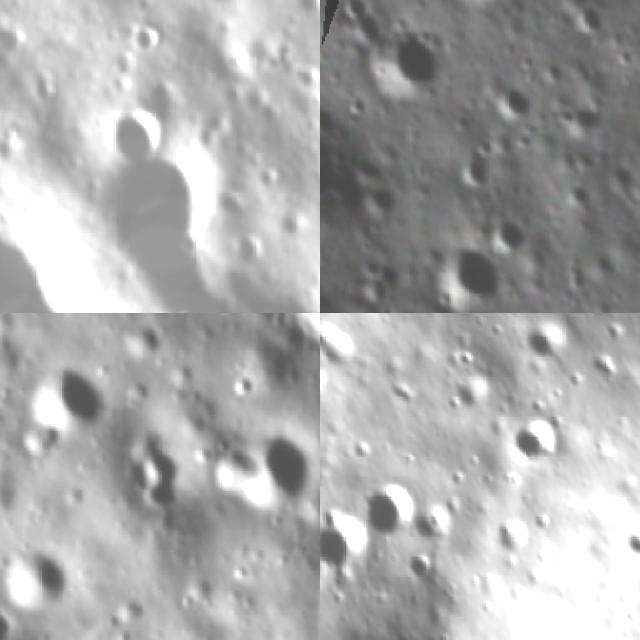crater: (73, 133, 229, 270), (213, 429, 320, 518), (24, 357, 113, 449), (170, 262, 320, 313), (362, 22, 453, 99), (116, 427, 184, 512), (0, 542, 80, 613), (96, 100, 176, 168), (431, 243, 499, 313), (320, 506, 378, 575), (364, 478, 424, 541), (501, 416, 569, 471), (515, 315, 577, 366), (449, 153, 498, 200), (491, 512, 537, 562), (117, 313, 163, 359), (320, 326, 364, 372), (455, 376, 498, 420), (492, 77, 532, 124), (225, 227, 268, 270), (492, 210, 530, 254), (131, 17, 168, 62), (405, 550, 440, 590), (256, 101, 292, 138), (274, 206, 308, 244), (219, 185, 248, 223), (332, 0, 371, 27), (33, 74, 62, 108), (575, 8, 610, 36), (623, 517, 640, 572), (295, 62, 320, 99), (0, 132, 23, 166), (344, 88, 369, 119), (0, 590, 15, 640), (292, 0, 320, 20), (613, 46, 634, 70)
